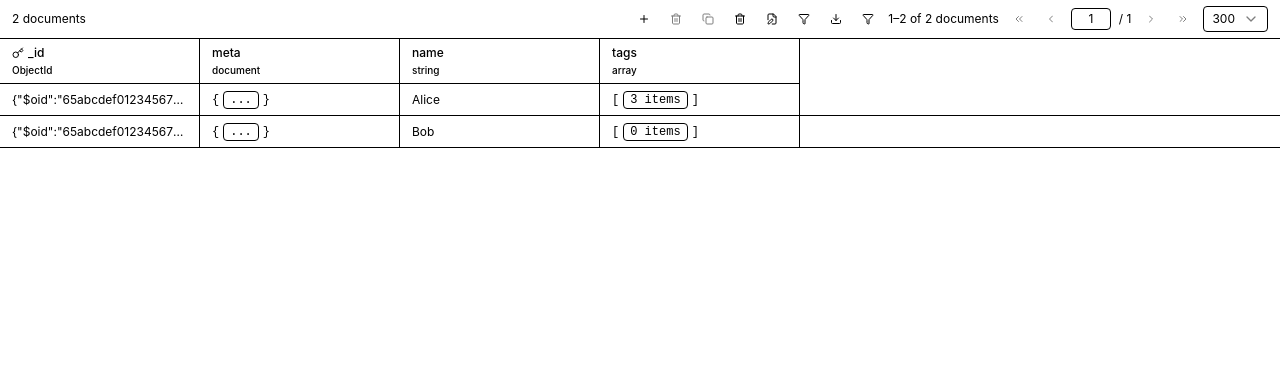
Test: DocumentDataGrid › opening a second nested cell switches the detail row to that cell
The width and height of the screenshot is (1280, 385).
Check: the text "Alice" is shown, box [412, 92, 440, 108]
Click the button named "Expand meta": (241, 100) [223, 90, 259, 108]
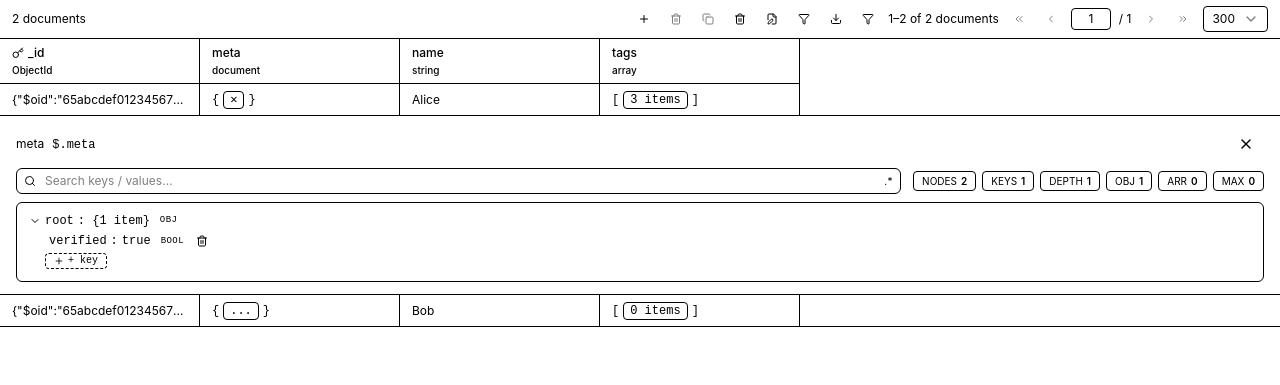
Check: the row with test id "nested-detail-row-0" is shown, box [0, 116, 1279, 295]
# Click the tags toggle on the same row.
Click the button with aria-label "Expand tags": (655, 100) [623, 90, 688, 108]
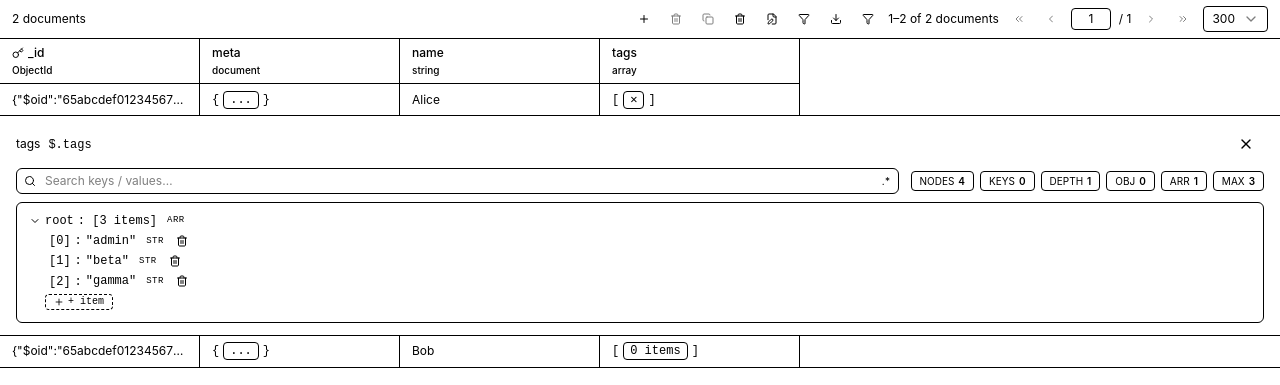
Check: the row with test id "nested-detail-row-0" is shown, box [0, 116, 1279, 336]
Check: the list item "[0]: \"admin\" STR" is shown, box [49, 233, 188, 249]
